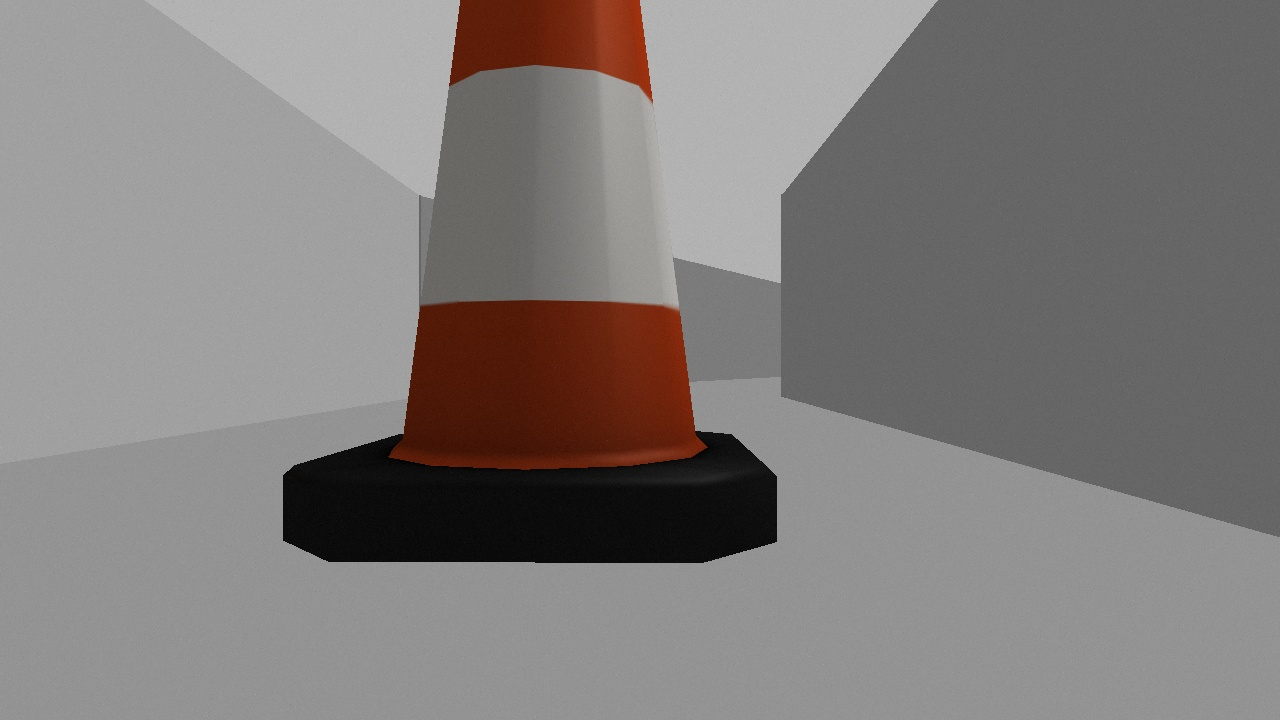barricade: (281, 1, 778, 562)
